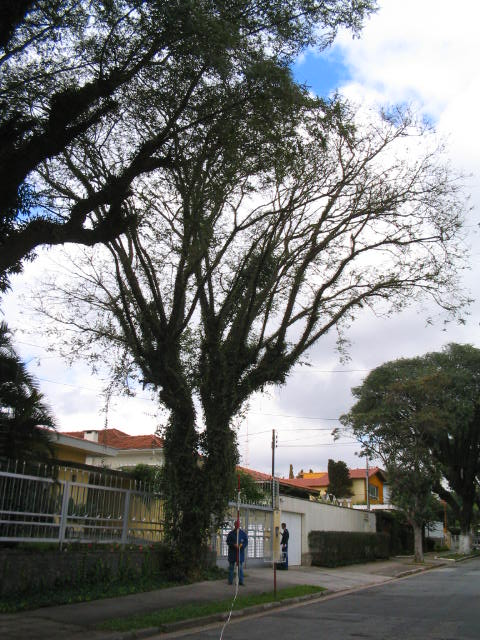crown: (346, 346, 478, 502)
stem: (145, 471, 233, 582), (449, 514, 479, 553)
stick: (228, 473, 249, 588)
tree: (33, 60, 471, 582), (343, 342, 480, 553)
